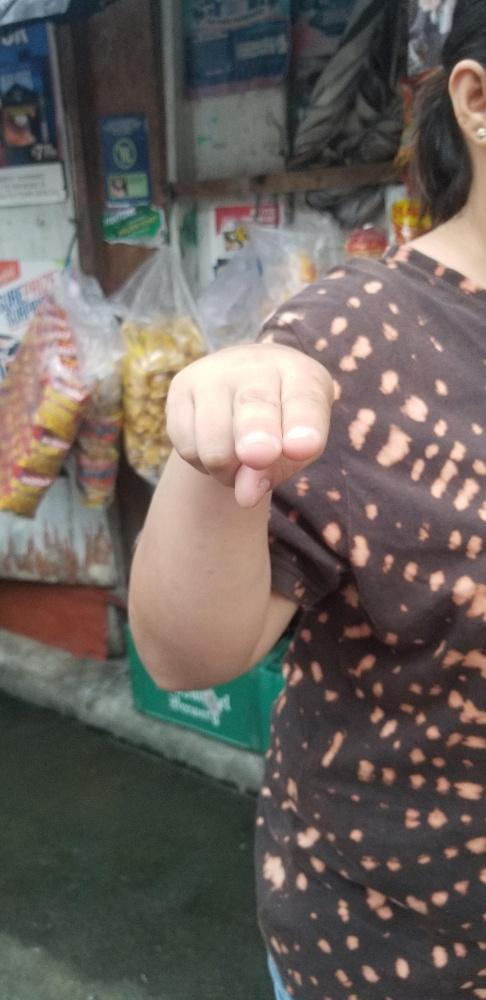n: (165, 341, 336, 505)
